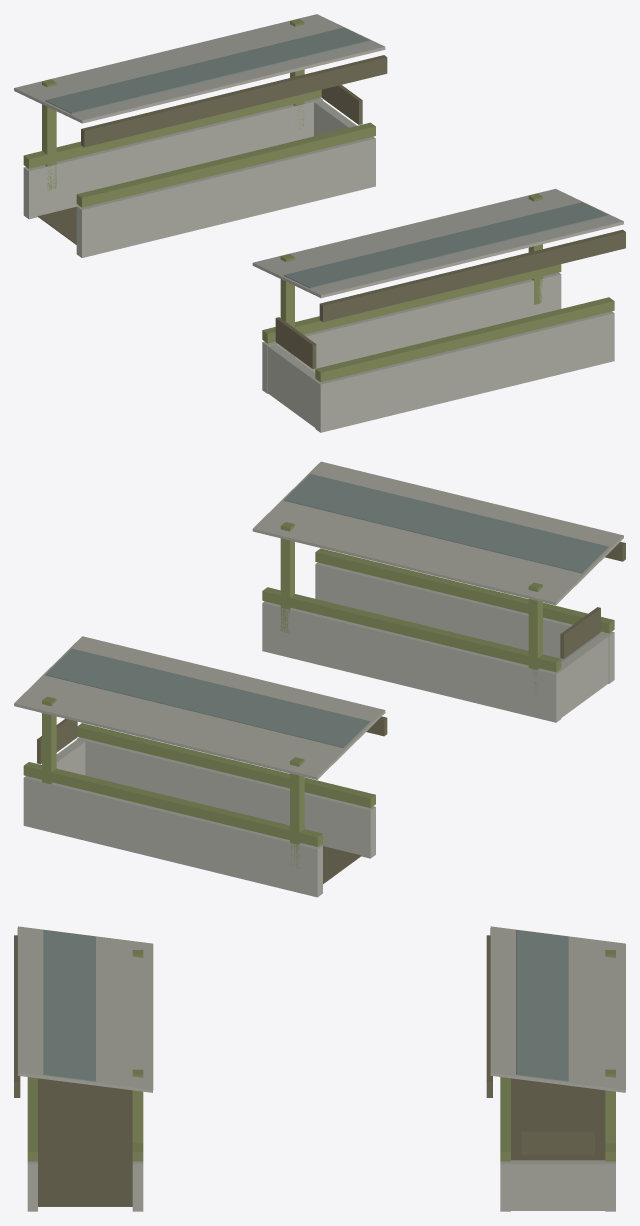
The model's file is SM_KitPaso_v0_LOD1.fbx.
3 renders of one model, top to bottom at view 1: azimuth 30°, elevation 25°; view 2: azimuth 150°, elevation 25°; view 3: azimuth 270°, elevation 25°, orthographic.
Parts seen in each view (by area): view 1: SM_bloques.kit_paso_v0_LOD1; view 2: SM_bloques.kit_paso_v0_LOD1; view 3: SM_bloques.kit_paso_v0_LOD1.
Boxes of the visible parts, x1,y1,x2,y2 form: SM_bloques.kit_paso_v0_LOD1: (14, 14, 625, 432); SM_bloques.kit_paso_v0_LOD1: (14, 461, 625, 897); SM_bloques.kit_paso_v0_LOD1: (14, 926, 625, 1211).
Size of the model in its own units: 6.6 by 2.96 by 11.65.
